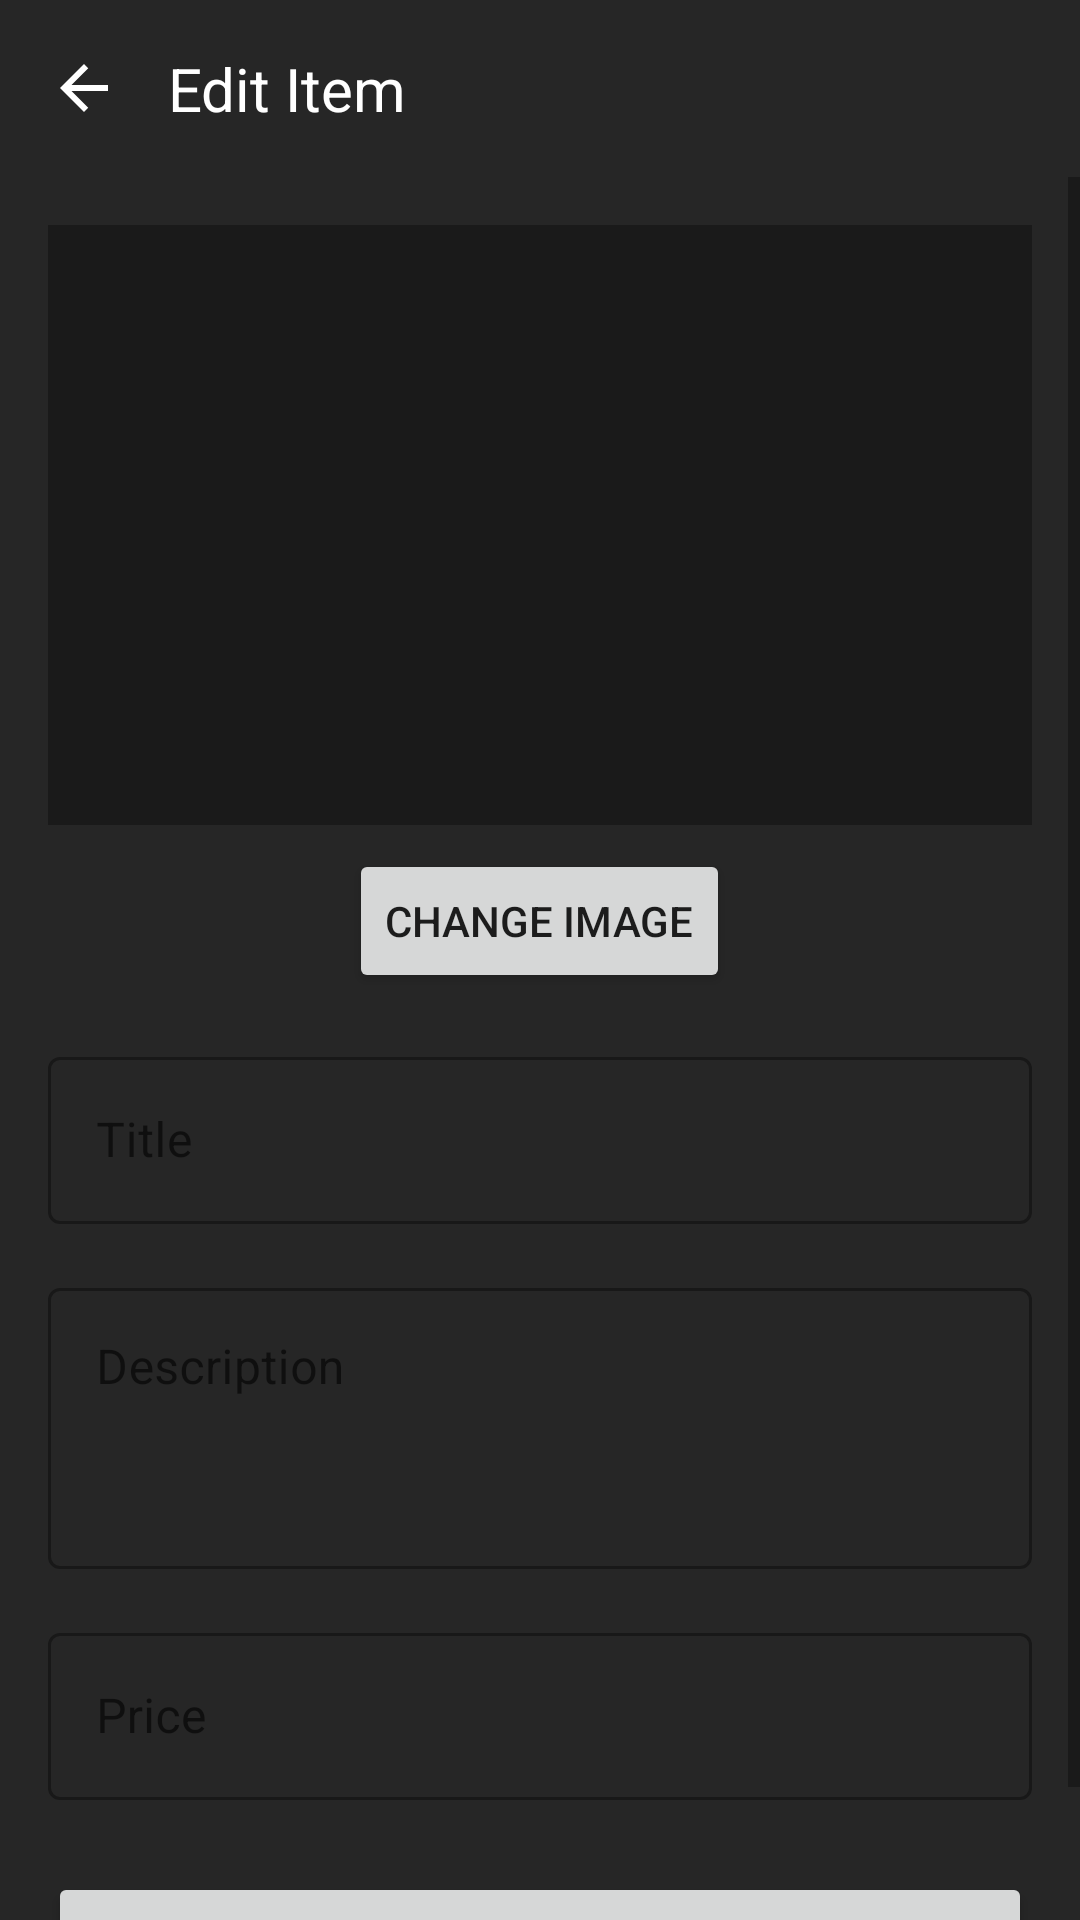

Icons on this 1080x1920 Android screen, each with the point to tap as [x,y]:
back: [84,88]
